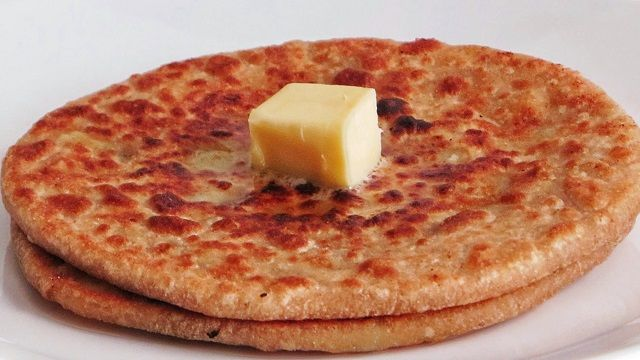aloo_paratha: (5, 35, 640, 354)
